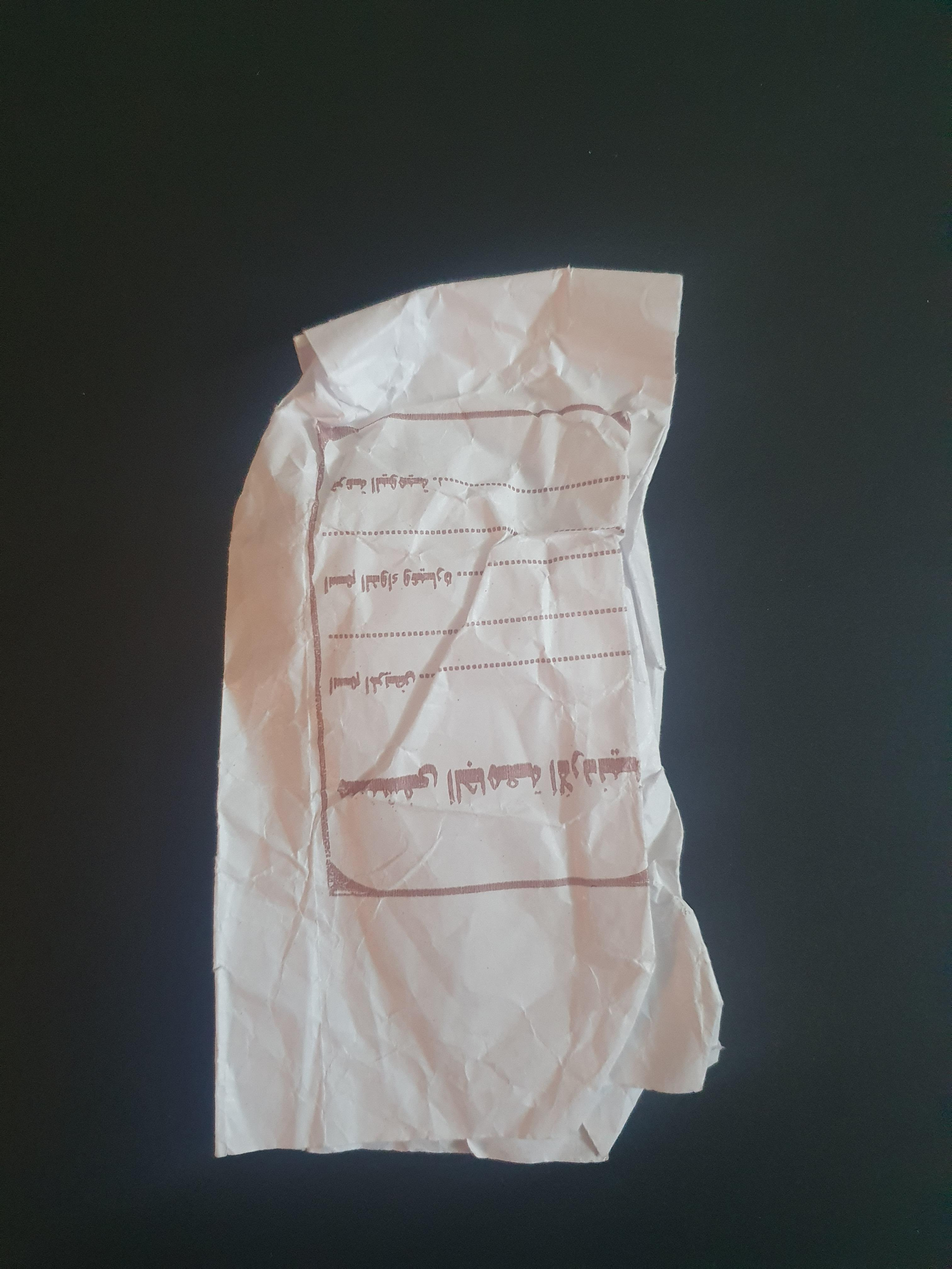paper: (226, 271, 689, 1152)
